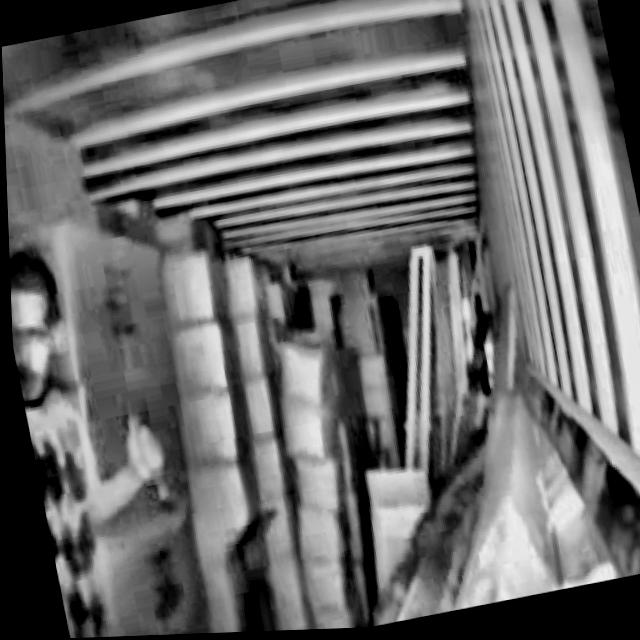burglary: (6, 217, 209, 640)
